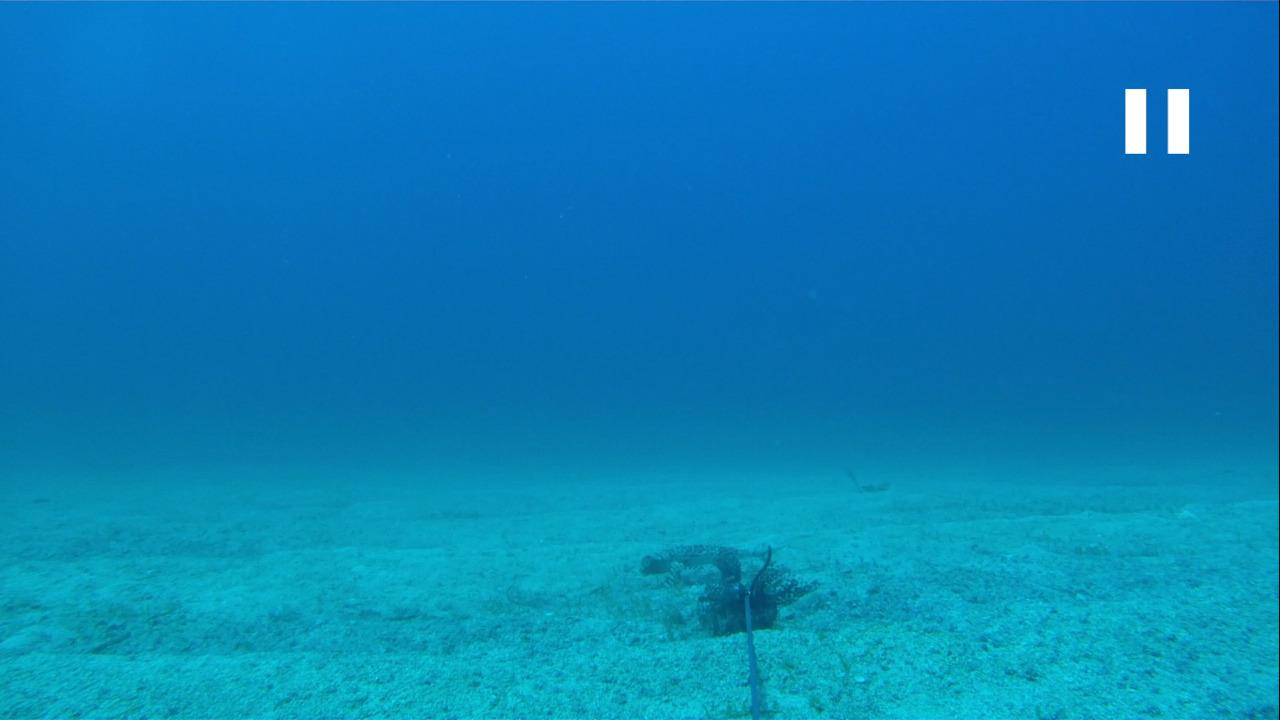dactylopterus: (636, 536, 792, 577)
